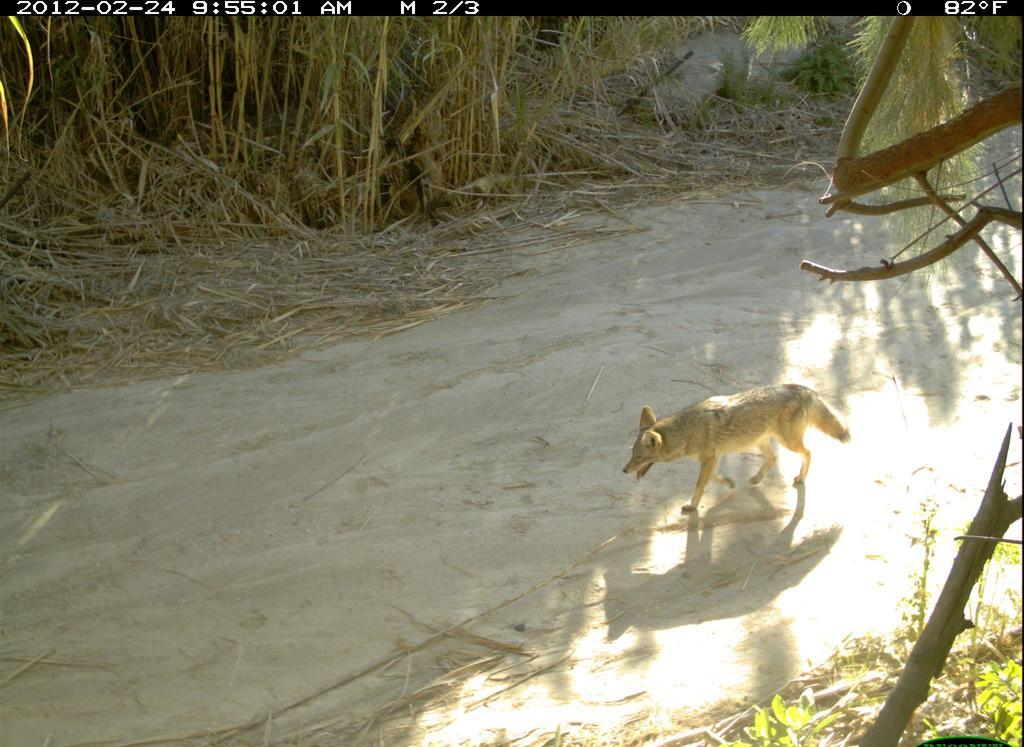coyote: (619, 382, 857, 520)
